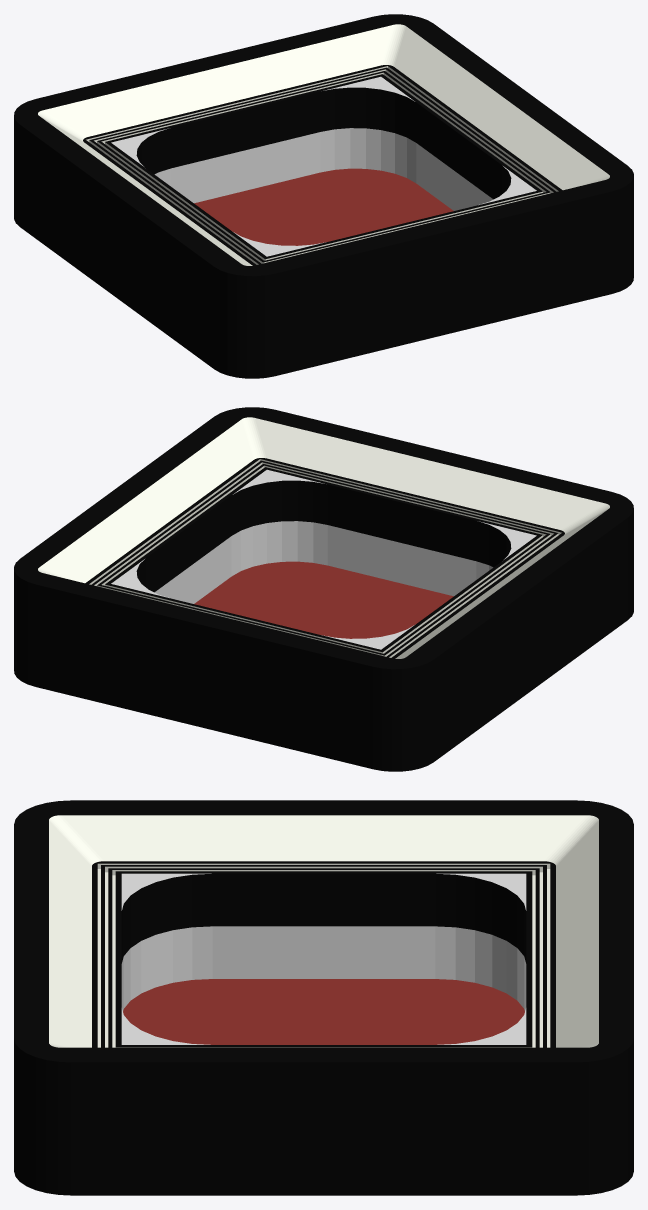
Rendered from DicePlate.fbx.
The picture shows the model from 3 angles, top to bottom: view 1: azimuth 30°, elevation 25°; view 2: azimuth 150°, elevation 25°; view 3: azimuth 270°, elevation 25°; orthographic projection. The views are drawn at different scales.
Visible parts, largest first — view 1: 평면; view 2: 평면; view 3: 평면.
Part boxes in pixels (x1,y1,x2,y2): 평면: (14, 14, 633, 378); 평면: (14, 407, 633, 771); 평면: (14, 800, 633, 1195).
Size of the model in its own units: 267 by 63.27 by 267.
